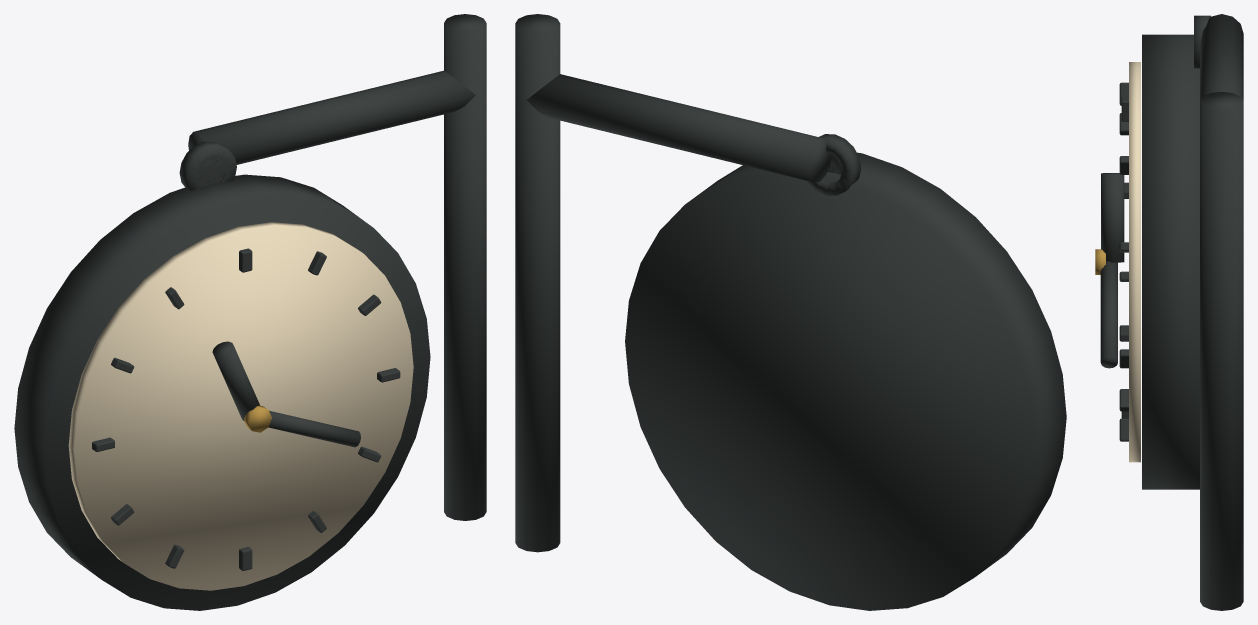
The model's file is 13_station_clock.glb.
3 renders of one model, left to right at view 1: azimuth 30°, elevation 25°; view 2: azimuth 150°, elevation 25°; view 3: azimuth 270°, elevation 25°, orthographic. The views are drawn at different scales.
Parts seen in each view (by area): view 1: Clock dial.001, Clock casing.001, Clock support, Clock bracket, Clock hanger, Clock hour hand.001, Clock minute hand.001; view 2: Clock casing.001, Clock support, Clock bracket, Clock hanger; view 3: Clock casing.001, Clock support, Clock dial.001, Clock bracket, Clock hour hand.001, Clock minute hand.001, Clock hanger, Fastener.119, Clock hour mark.017, Clock hour mark.016.
Part boxes in pixels (x1=…): Clock dial.001: x1=68, y1=222, x2=413, y2=590; Clock casing.001: x1=14, y1=174, x2=430, y2=610; Clock support: x1=444, y1=14, x2=486, y2=520; Clock bracket: x1=188, y1=70, x2=475, y2=164; Clock hanger: x1=179, y1=141, x2=236, y2=190; Clock hour hand.001: x1=212, y1=341, x2=259, y2=420; Clock minute hand.001: x1=268, y1=410, x2=360, y2=447; Clock casing.001: x1=625, y1=152, x2=1066, y2=610; Clock support: x1=515, y1=14, x2=560, y2=552; Clock bracket: x1=527, y1=74, x2=831, y2=182; Clock hanger: x1=807, y1=134, x2=861, y2=195; Clock casing.001: x1=1142, y1=34, x2=1199, y2=489; Clock support: x1=1200, y1=92, x2=1243, y2=610; Clock dial.001: x1=1129, y1=62, x2=1140, y2=462; Clock bracket: x1=1200, y1=14, x2=1243, y2=100; Clock hour hand.001: x1=1101, y1=173, x2=1124, y2=262; Clock minute hand.001: x1=1100, y1=261, x2=1117, y2=368; Clock hanger: x1=1194, y1=15, x2=1210, y2=68; Fastener.119: x1=1095, y1=249, x2=1105, y2=274; Clock hour mark.017: x1=1119, y1=418, x2=1128, y2=441; Clock hour mark.016: x1=1119, y1=389, x2=1128, y2=411.
Bounding box in the file's own units: 1.16 × 1.14 × 0.306.
